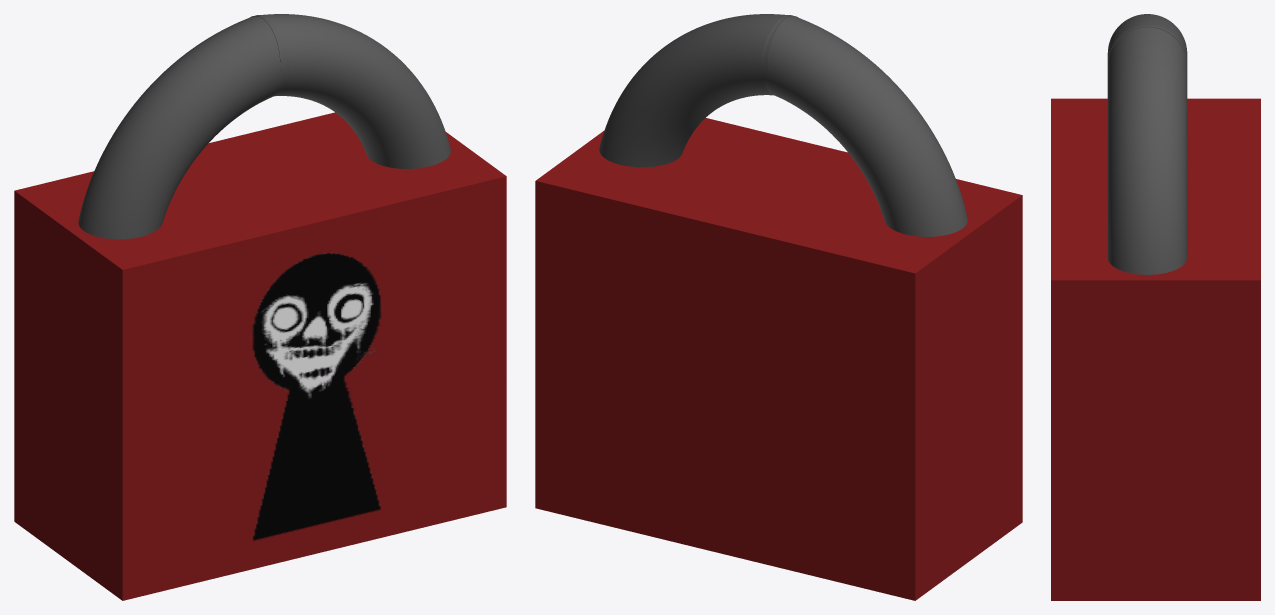
The model's file is Encrypt.fbx.
3 renders of one model, left to right at view 1: azimuth 30°, elevation 25°; view 2: azimuth 150°, elevation 25°; view 3: azimuth 270°, elevation 25°, orthographic. The views are drawn at different scales.
Visible parts, largest first — view 1: root, node_id162 (×2); view 2: root, node_id162 (×2); view 3: root, node_id162 (×2).
Boxes of the visible parts, x1,y1,x2,y2 form: root: [14, 112, 506, 600]; node_id162 (×2): [78, 14, 450, 239]; root: [535, 118, 1022, 600]; node_id162 (×2): [599, 14, 967, 236]; root: [1051, 98, 1260, 600]; node_id162 (×2): [1107, 14, 1187, 274].
Size of the model in its own units: 0.1609 by 0.2 by 0.0786.
Materials: 2 (1 with a texture image).
